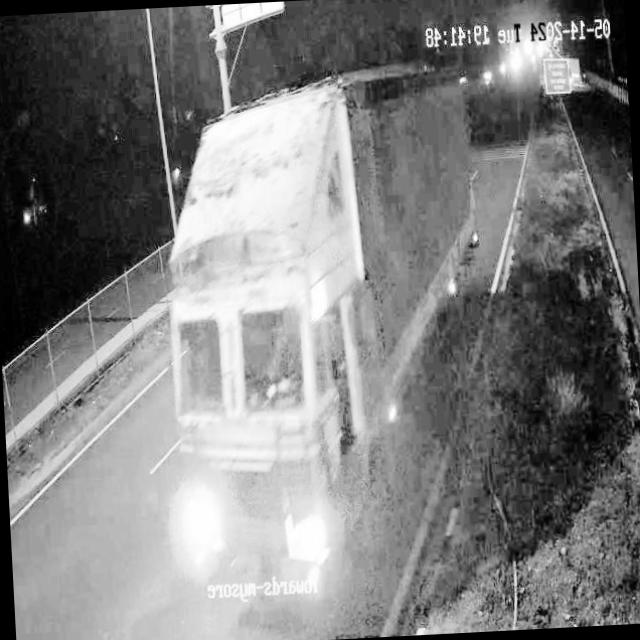Truck: (142, 56, 500, 618)
